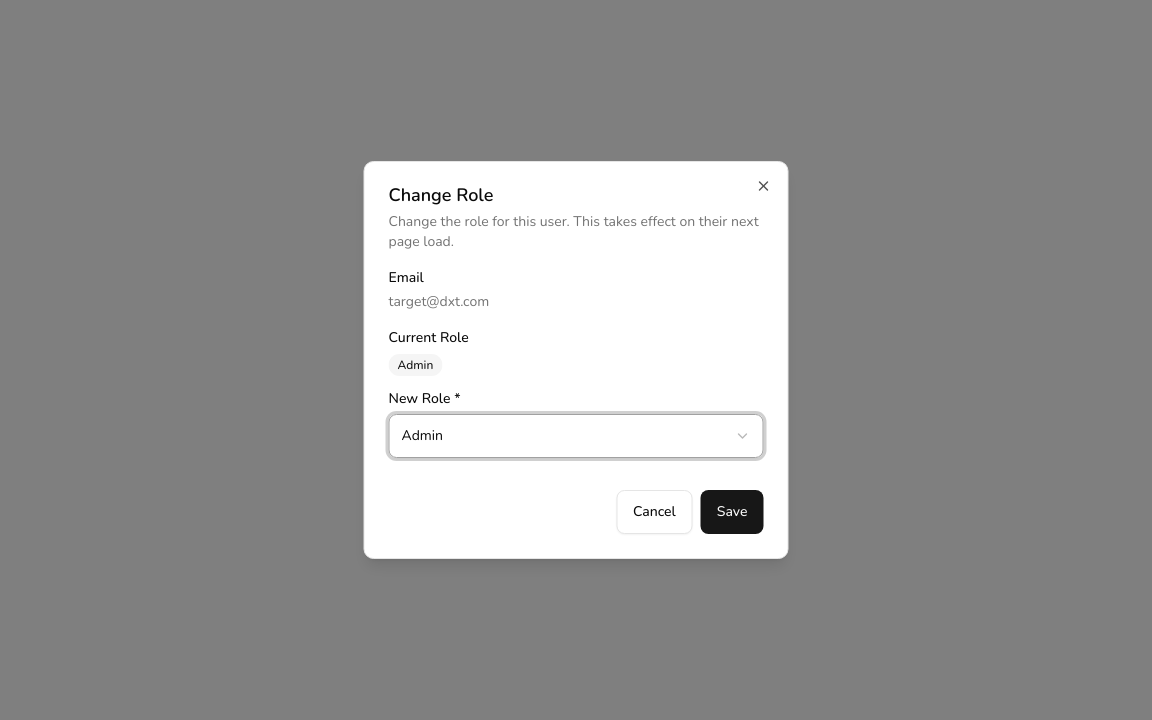
Test: EditRoleDialog › should show no-op guard when same role selected
Expected: the dropdown with test id "role-select" is shown, x1=388 y1=414 x2=764 y2=458
# Click Save without changing role — form default is current role
Click the button with test id "save-button": coordinates (732, 512) x1=701 y1=490 x2=764 y2=534
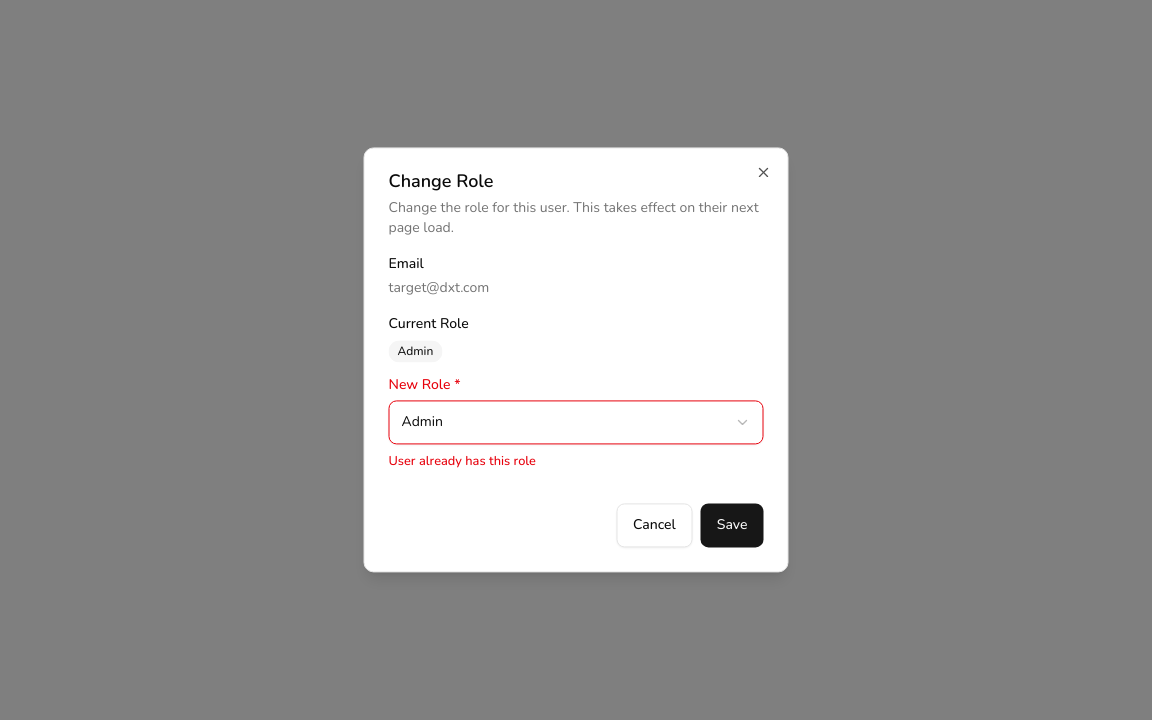
Expected: the text "User already has this role" is shown, x1=388 y1=452 x2=536 y2=470
